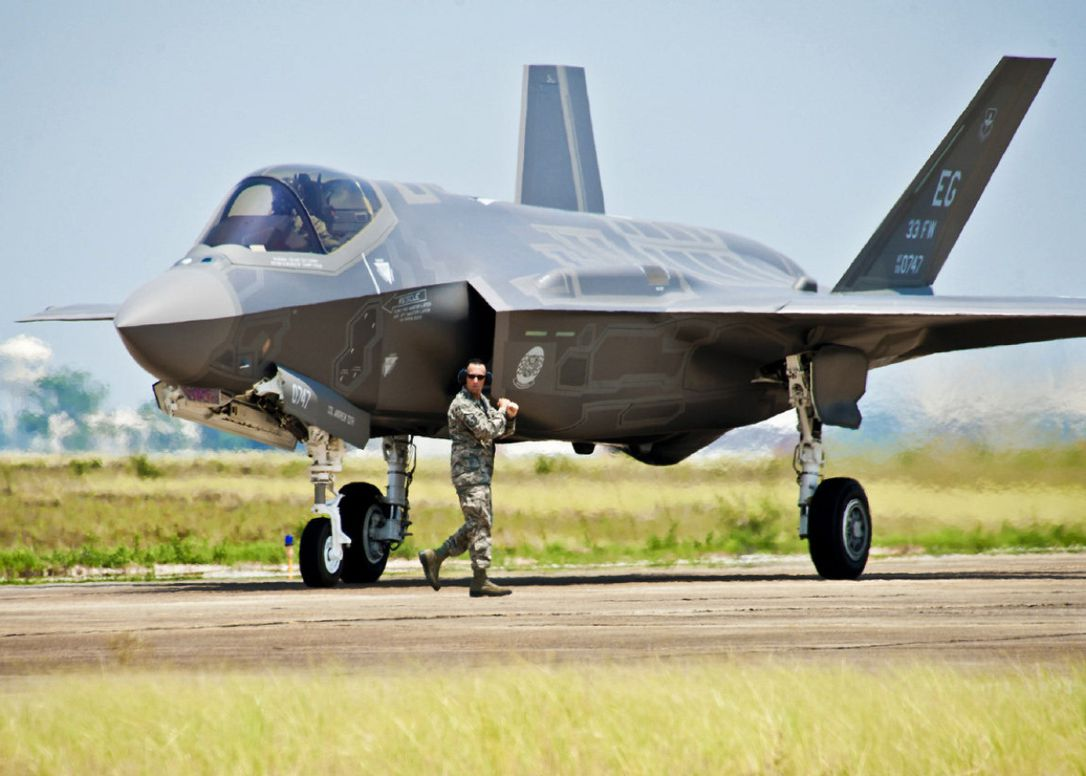F-35 Lightning: (40, 38, 1070, 630)
